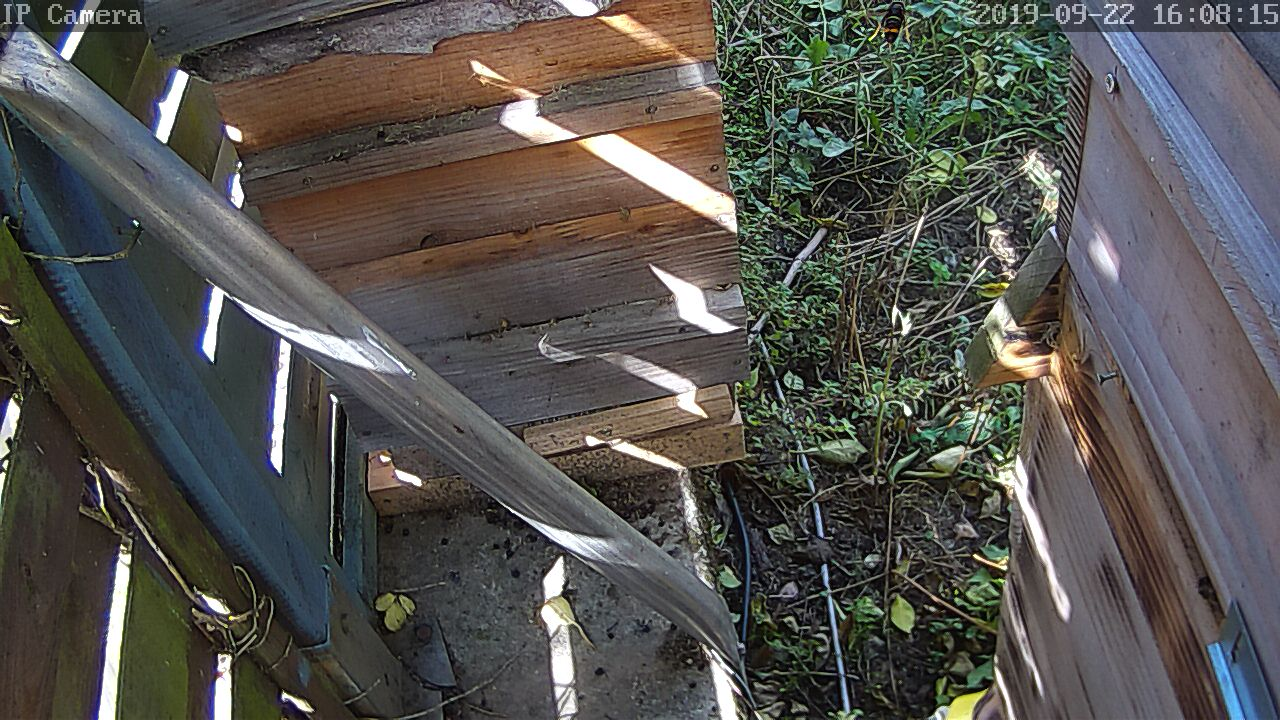hornet: (864, 2, 924, 49)
